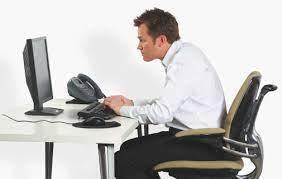Bad Sitting Posture: (71, 3, 258, 142)
